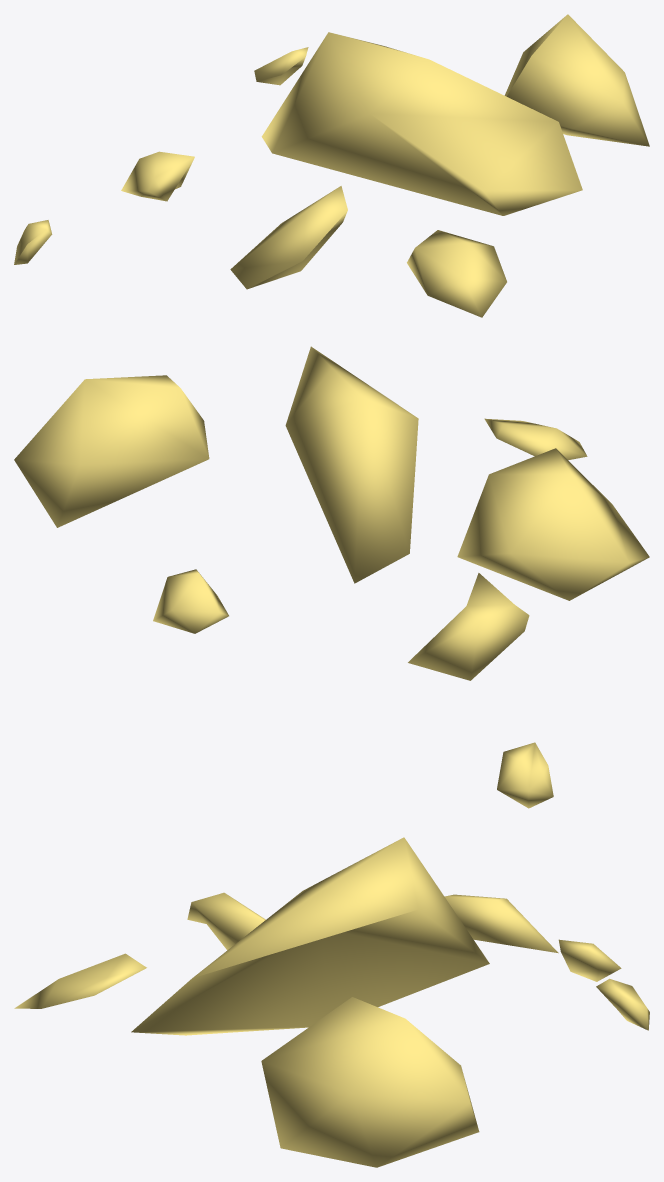
The model's file is candy_assets52.fbx.
3 renders of one model, top to bottom at view 1: azimuth 30°, elevation 25°; view 2: azimuth 150°, elevation 25°; view 3: azimuth 270°, elevation 25°, orthographic. The views are drawn at different scales.
Visible parts, largest first — view 1: candy_assets52; view 2: candy_assets52; view 3: candy_assets52.
Boxes of the visible parts, left/top/right/bottom form: candy_assets52: left=14, top=14, right=649, bottom=317; candy_assets52: left=14, top=346, right=649, bottom=808; candy_assets52: left=14, top=837, right=649, bottom=1167.
Size of the model in its own units: 231 by 98.96 by 210.
1 material, 1 textured.
